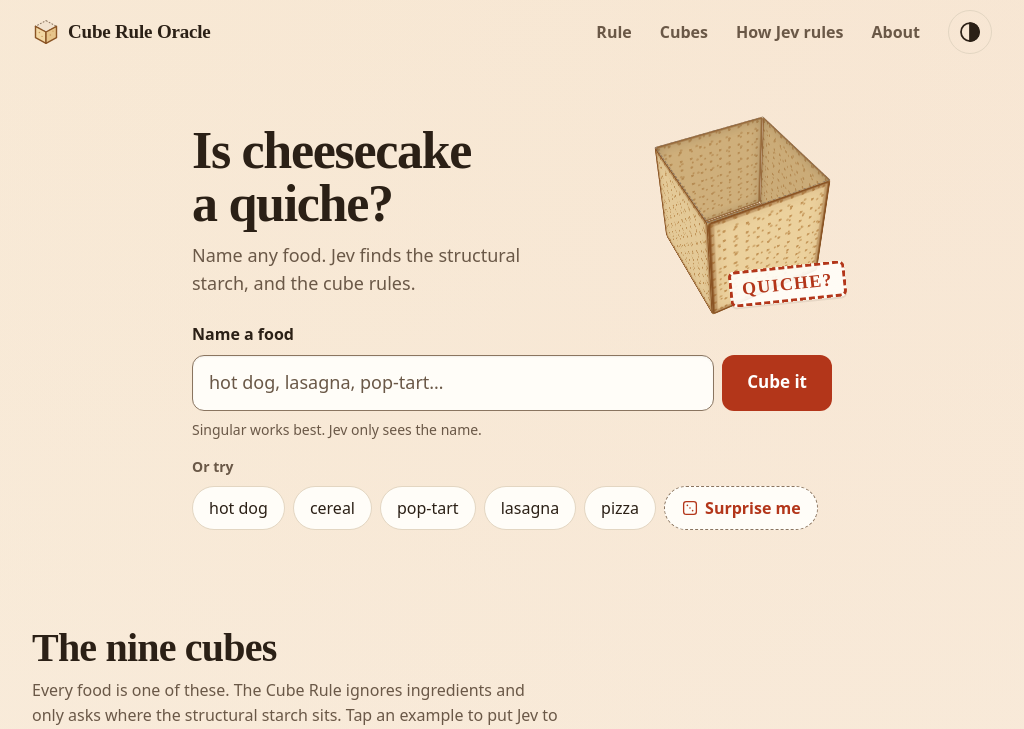
Scenario: App › rules on typed input, pushes a shareable URL, and flags mock mode
Type "Lasagna" into the field labelled "Name a food". click: coordinates (453, 383)
box: top-left (192, 355), bottom-right (714, 411)
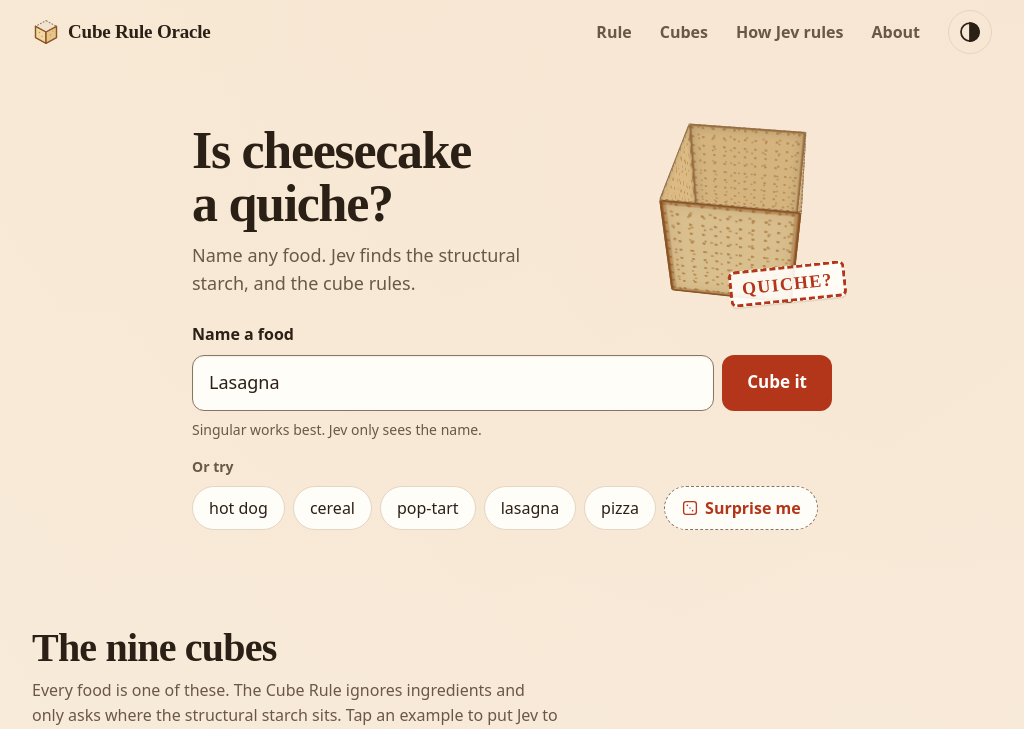
Click the button "Cube it". click: coordinates (777, 383)
box: top-left (722, 355), bottom-right (832, 411)
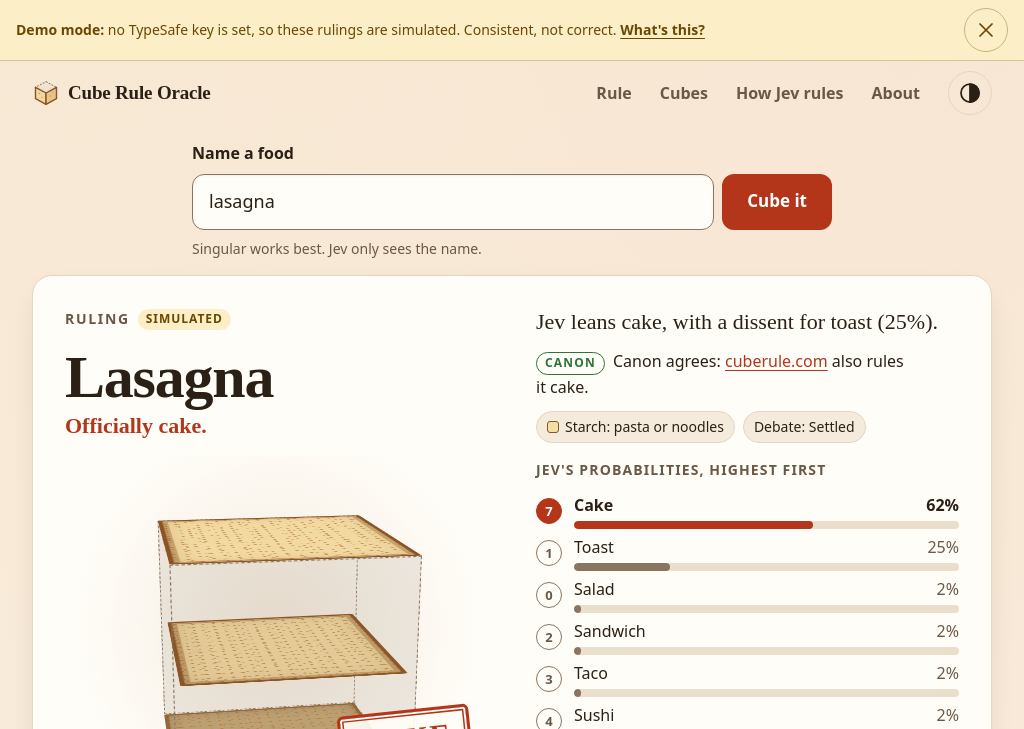
Now the heading named "Lasagna: Officially cake." is shown, box top-left (64, 344), bottom-right (273, 438)
Now the element "Demo mode" shows "these rulings are simulated", box top-left (104, 20), bottom-right (620, 39)
